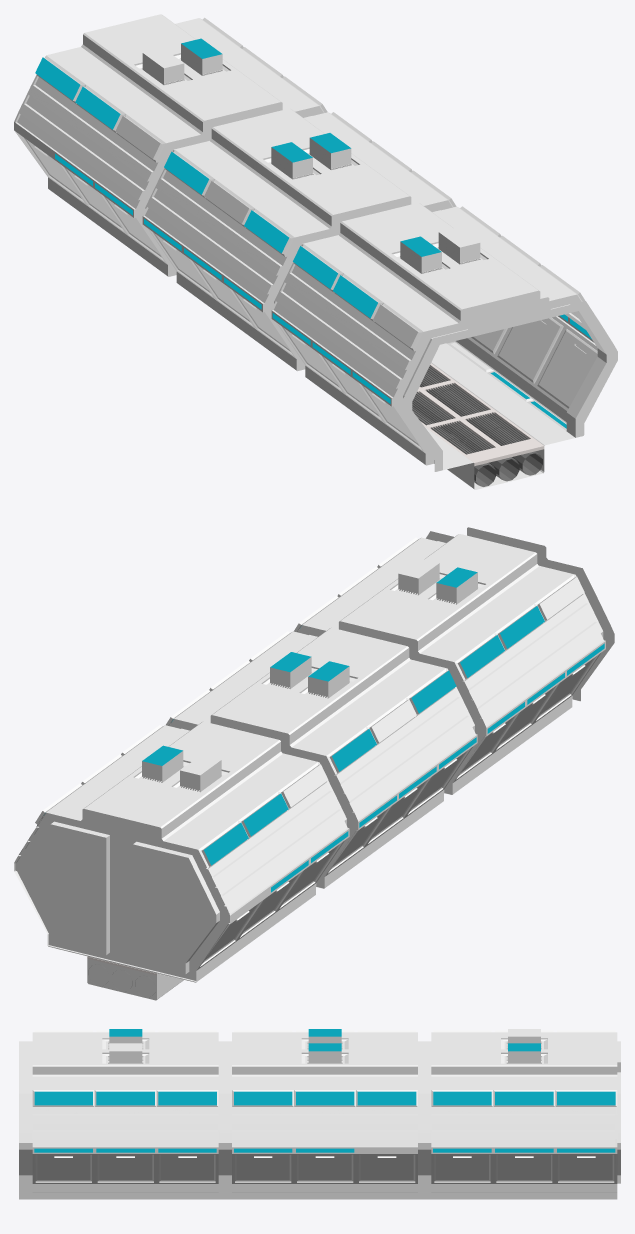
File: space-walk-v003.glb
3 views of the same model, one above another, from view 1: azimuth 30°, elevation 25°; view 2: azimuth 150°, elevation 25°; view 3: azimuth 270°, elevation 25° (orthographic). The views are drawn at different scales.
Visible parts, largest first — view 1: wall.003, wall.005, wall.004, pipe.000, lightpanel.000, loghtpanel.001, lightpanel.002; view 2: wall.005, wall.003, wall.004, gate, loghtpanel.001, lightpanel.000, lightpanel.002; view 3: wall.003, wall.004, wall.005, lightpanel.002, loghtpanel.001, lightpanel.000, gate.
Part boxes in pixels (bbox=[...]): wall.003: bbox=[271, 203, 617, 489]; wall.005: bbox=[14, 14, 327, 276]; wall.004: bbox=[142, 108, 456, 371]; pipe.000: bbox=[412, 363, 544, 486]; lightpanel.000: bbox=[272, 236, 591, 428]; loghtpanel.001: bbox=[144, 133, 350, 309]; lightpanel.002: bbox=[35, 38, 221, 215]; wall.005: bbox=[14, 715, 358, 1000]; wall.003: bbox=[293, 527, 614, 794]; wall.004: bbox=[166, 621, 486, 888]; gate: bbox=[14, 809, 231, 1000]; loghtpanel.001: bbox=[172, 652, 476, 827]; lightpanel.000: bbox=[436, 567, 604, 733]; lightpanel.002: bbox=[142, 745, 348, 892]; wall.003: bbox=[19, 1030, 218, 1199]; wall.004: bbox=[218, 1030, 417, 1199]; wall.005: bbox=[418, 1029, 617, 1199]; lightpanel.002: bbox=[433, 1043, 615, 1152]; loghtpanel.001: bbox=[234, 1029, 416, 1152]; lightpanel.000: bbox=[34, 1029, 216, 1152]; gate: bbox=[615, 1041, 620, 1190].
Bounding box in the file's own units: 36.81 × 29.43 × 111.
